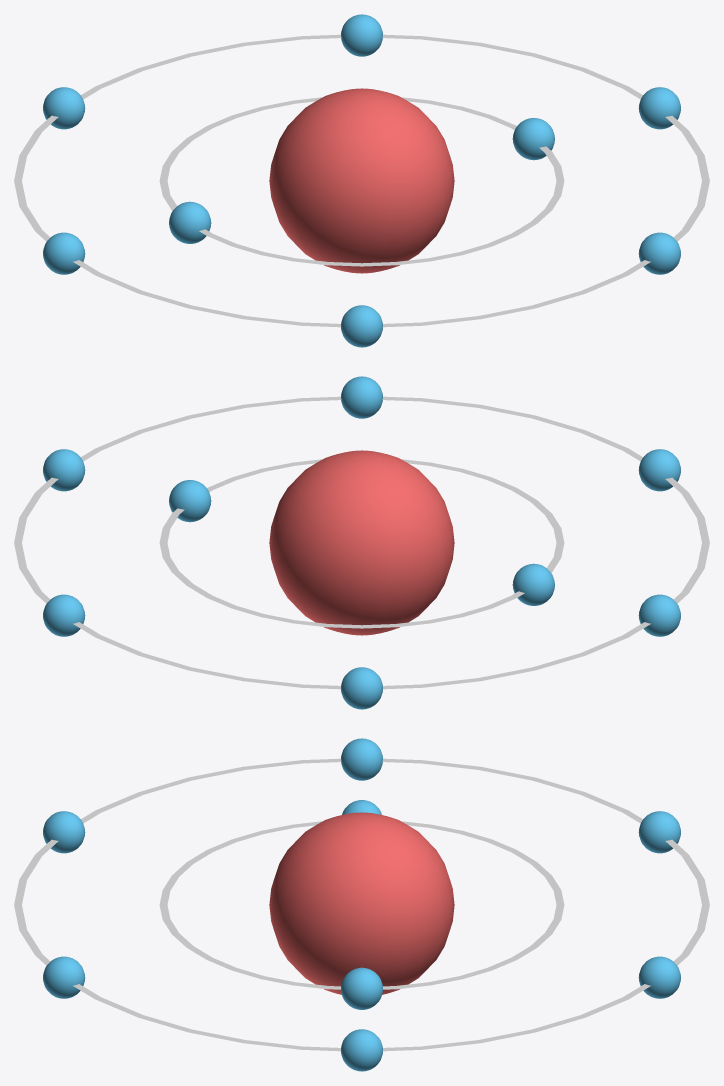
File: oxygen_atom.glb
3 views of the same model, one above another, from view 1: azimuth 30°, elevation 25°; view 2: azimuth 150°, elevation 25°; view 3: azimuth 270°, elevation 25° (orthographic).
Parts seen in each view (by area): view 1: nucleus_node, shell_ring_1, shell_ring_0, electron_node_1_2, electron_node_1_5, electron_node_1_1, electron_node_1_3, electron_node_0_1, electron_node_1_0, electron_node_1_4, electron_node_0_0; view 2: nucleus_node, shell_ring_1, shell_ring_0, electron_node_1_1, electron_node_1_4, electron_node_1_3, electron_node_1_5, electron_node_0_1, electron_node_1_0, electron_node_1_2, electron_node_0_0; view 3: nucleus_node, shell_ring_1, shell_ring_0, electron_node_0_0, electron_node_1_0, electron_node_1_3, electron_node_1_1, electron_node_1_5, electron_node_1_2, electron_node_1_4.
Part boxes in pixels (bbox=[...]): nucleus_node: bbox=[269, 88, 454, 273]; shell_ring_1: bbox=[14, 34, 709, 327]; shell_ring_0: bbox=[159, 97, 564, 266]; electron_node_1_2: bbox=[341, 305, 382, 347]; electron_node_1_5: bbox=[341, 14, 382, 56]; electron_node_1_1: bbox=[638, 232, 680, 274]; electron_node_1_3: bbox=[43, 232, 85, 274]; electron_node_0_1: bbox=[169, 201, 211, 243]; electron_node_1_0: bbox=[638, 87, 680, 129]; electron_node_1_4: bbox=[43, 87, 85, 129]; electron_node_0_0: bbox=[512, 118, 554, 160]; nucleus_node: bbox=[269, 450, 454, 635]; shell_ring_1: bbox=[14, 396, 709, 689]; shell_ring_0: bbox=[159, 459, 564, 628]; electron_node_1_1: bbox=[341, 376, 382, 418]; electron_node_1_4: bbox=[341, 667, 382, 709]; electron_node_1_3: bbox=[638, 594, 680, 636]; electron_node_1_5: bbox=[43, 594, 85, 636]; electron_node_0_1: bbox=[512, 563, 554, 605]; electron_node_1_0: bbox=[43, 449, 85, 491]; electron_node_1_2: bbox=[638, 449, 680, 491]; electron_node_0_0: bbox=[169, 480, 211, 522]; nucleus_node: bbox=[269, 812, 454, 994]; shell_ring_1: bbox=[14, 758, 709, 1051]; shell_ring_0: bbox=[159, 821, 564, 989]; electron_node_0_0: bbox=[341, 967, 382, 1009]; electron_node_1_0: bbox=[341, 1029, 382, 1071]; electron_node_1_3: bbox=[341, 738, 382, 780]; electron_node_1_1: bbox=[43, 956, 85, 998]; electron_node_1_5: bbox=[638, 956, 680, 998]; electron_node_1_2: bbox=[43, 811, 85, 853]; electron_node_1_4: bbox=[638, 811, 680, 853].
Size of the model in its own units: 2.76 by 0.7 by 2.63.
